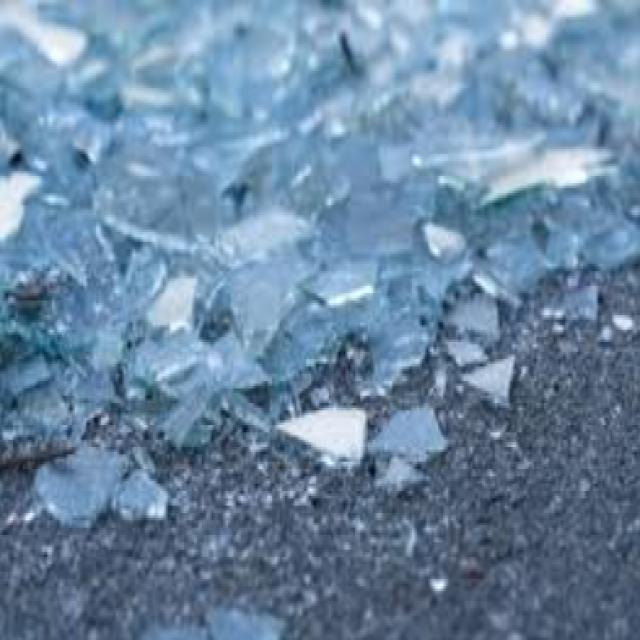PecahanKaca: (0, 0, 638, 537)
